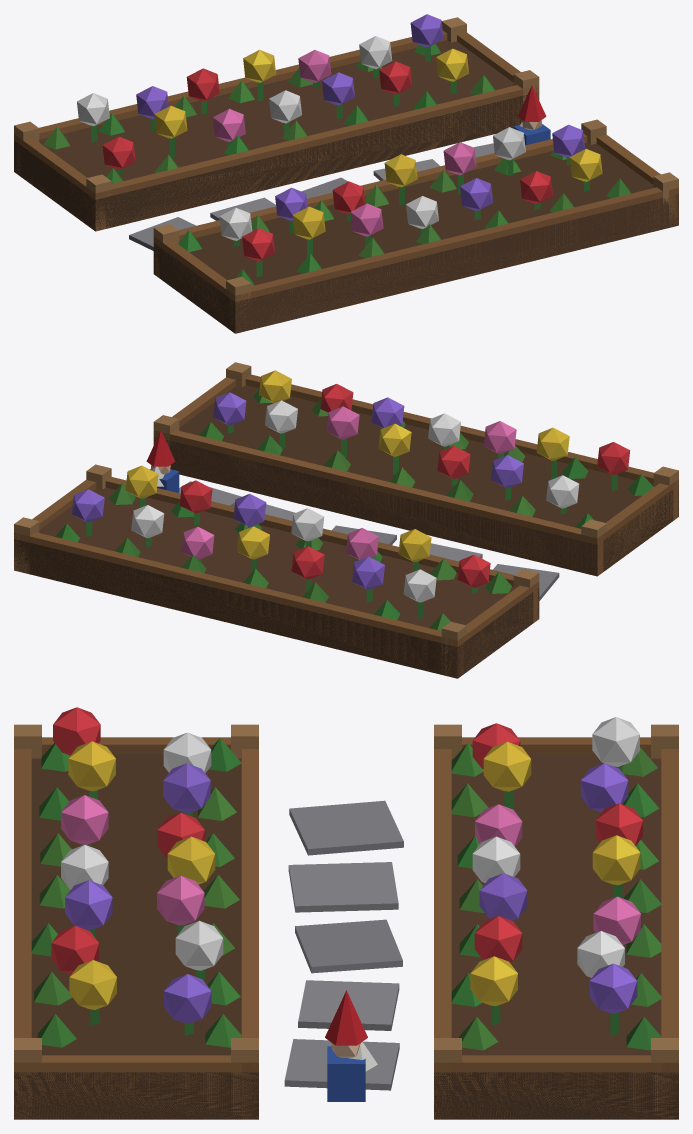
File: Decor_LittleHouse_Garden.fbx
3 views of the same model, one above another, from view 1: azimuth 30°, elevation 25°; view 2: azimuth 150°, elevation 25°; view 3: azimuth 270°, elevation 25° (orthographic). The views are drawn at different scales.
Parts seen in each view (by area): view 1: Garden_Body; view 2: Garden_Body; view 3: Garden_Body.
Boxes of the visible parts, x1,y1,x2,y2 form: Garden_Body: (14,14,678,333); Garden_Body: (14,362,678,678); Garden_Body: (14,707,678,1119).
Bounding box in the file's own units: 22 × 3.98 × 19.
